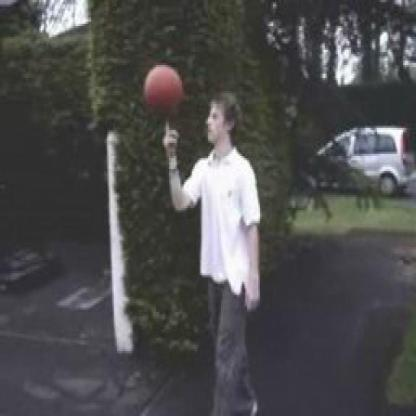basketball: (144, 67, 184, 113)
